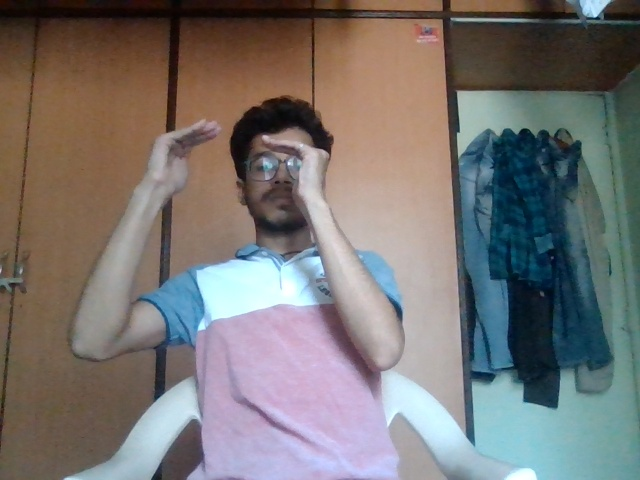afternoon: (136, 118, 348, 247)
